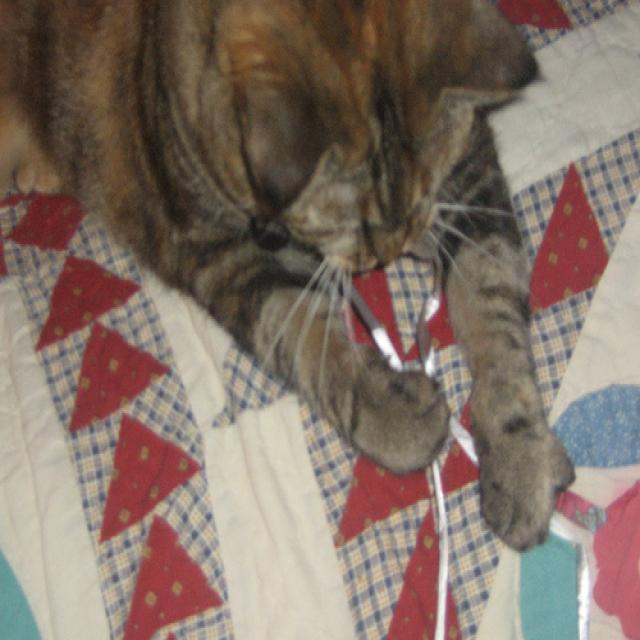cat: (1, 1, 578, 554)
